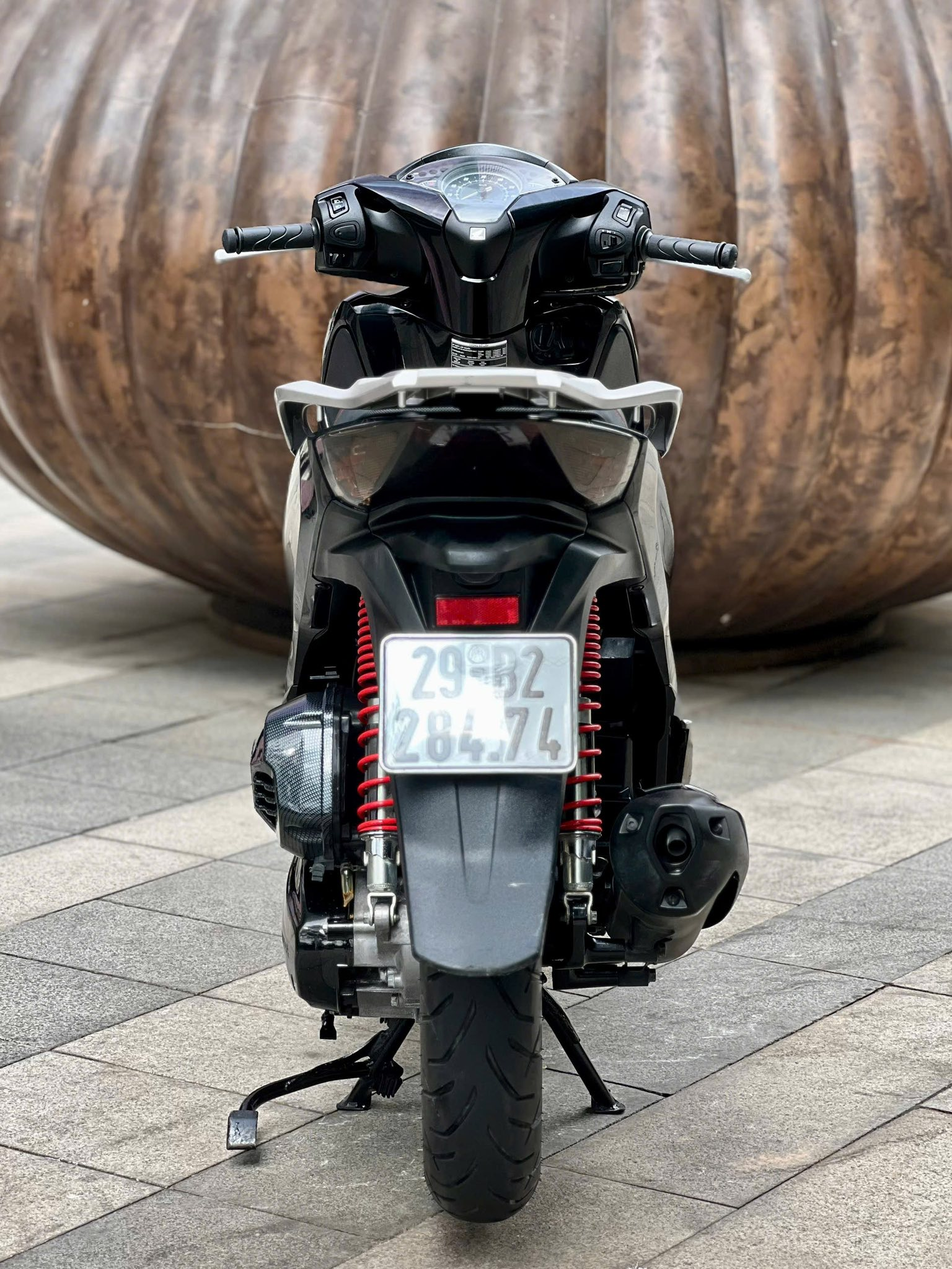bien_so: (366, 629, 586, 792)
